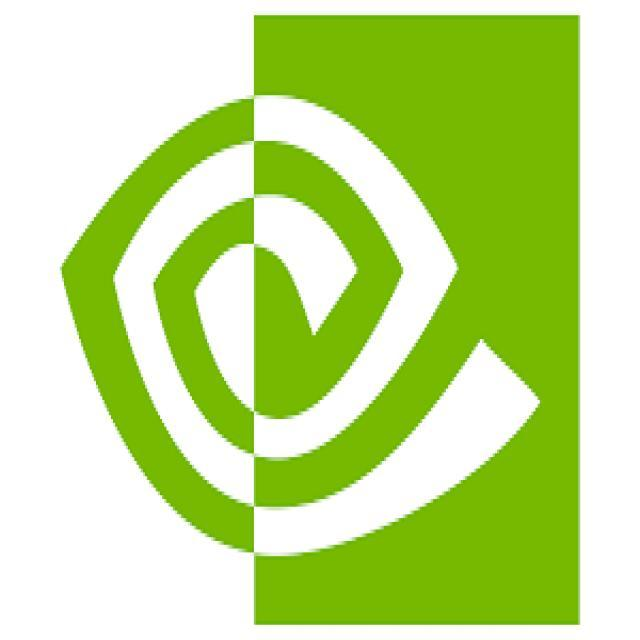nvidia: (46, 9, 608, 640)
